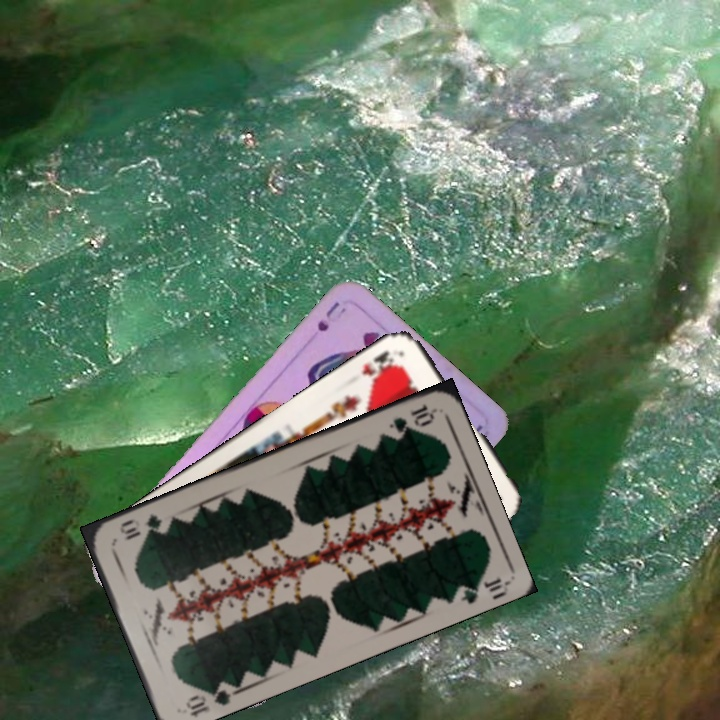G10: (181, 677, 237, 719), (385, 399, 437, 436)
HK: (357, 346, 400, 384)
SU: (313, 298, 349, 335)
